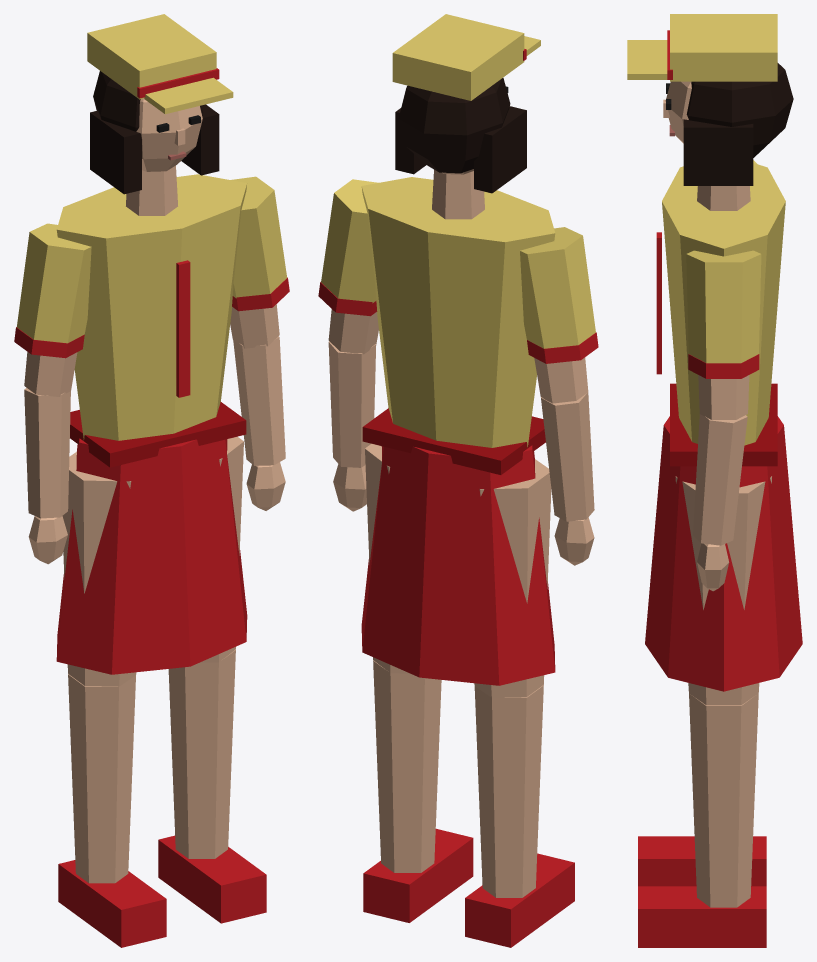
Rendered from 05-red-skirt-woman.glb.
The picture shows the model from 3 angles, left to right: view 1: azimuth 30°, elevation 25°; view 2: azimuth 150°, elevation 25°; view 3: azimuth 270°, elevation 25°; orthographic projection. The views are drawn at different scales.
Visible parts, largest first — view 1: 05-red-skirt-woman-torso, 05-red-skirt-woman-skirt, 05-red-skirt-woman-shin, 05-red-skirt-woman-shin.001, 05-red-skirt-woman-sleeve, 05-red-skirt-woman-cap, 05-red-skirt-woman-foot, 05-red-skirt-woman-foot.001, 05-red-skirt-woman-forearm, 05-red-skirt-woman-forearm.001, 05-red-skirt-woman-sleeve.001, 05-red-skirt-woman-thigh (+16 smaller); view 2: 05-red-skirt-woman-torso, 05-red-skirt-woman-skirt, 05-red-skirt-woman-shin, 05-red-skirt-woman-shin.001, 05-red-skirt-woman-cap, 05-red-skirt-woman-sleeve, 05-red-skirt-woman-hair, 05-red-skirt-woman-foot.001, 05-red-skirt-woman-foot, 05-red-skirt-woman-forearm, 05-red-skirt-woman-thigh, 05-red-skirt-woman-sleeve.001 (+12 smaller); view 3: 05-red-skirt-woman-skirt, 05-red-skirt-woman-torso, 05-red-skirt-woman-shin.001, 05-red-skirt-woman-sleeve.001, 05-red-skirt-woman-cap, 05-red-skirt-woman-foot.001, 05-red-skirt-woman-forearm.001, 05-red-skirt-woman-hair, 05-red-skirt-woman-hairside.001, 05-red-skirt-woman-thigh.001, 05-red-skirt-woman-foot, 05-red-skirt-woman-belt (+7 smaller).
Boxes of the visible parts, x1,y1,x2,y2 form: 05-red-skirt-woman-torso: (56, 174, 247, 440); 05-red-skirt-woman-skirt: (56, 438, 247, 674); 05-red-skirt-woman-shin: (68, 674, 135, 883); 05-red-skirt-woman-shin.001: (168, 650, 235, 858); 05-red-skirt-woman-sleeve: (17, 223, 91, 343); 05-red-skirt-woman-cap: (87, 14, 216, 99); 05-red-skirt-woman-foot: (58, 860, 166, 947); 05-red-skirt-woman-foot.001: (158, 835, 266, 923); 05-red-skirt-woman-forearm: (24, 388, 70, 518); 05-red-skirt-woman-forearm.001: (233, 336, 285, 465); 05-red-skirt-woman-sleeve.001: (231, 176, 287, 298); 05-red-skirt-woman-thigh: (62, 452, 136, 686); 05-red-skirt-woman-torso: (361, 177, 555, 447); 05-red-skirt-woman-skirt: (361, 445, 555, 685); 05-red-skirt-woman-shin: (474, 685, 543, 897); 05-red-skirt-woman-shin.001: (373, 660, 441, 872); 05-red-skirt-woman-cap: (392, 14, 524, 100); 05-red-skirt-woman-sleeve: (520, 227, 595, 348); 05-red-skirt-woman-hair: (398, 78, 510, 173); 05-red-skirt-woman-foot.001: (363, 828, 473, 922); 05-red-skirt-woman-foot: (465, 853, 574, 947); 05-red-skirt-woman-forearm: (541, 392, 594, 521); 05-red-skirt-woman-thigh: (474, 459, 551, 697); 05-red-skirt-woman-sleeve.001: (321, 179, 378, 303); 05-red-skirt-woman-skirt: (645, 416, 802, 691); 05-red-skirt-woman-torso: (662, 163, 785, 445); 05-red-skirt-woman-shin.001: (689, 693, 758, 907); 05-red-skirt-woman-sleeve.001: (686, 250, 761, 363); 05-red-skirt-woman-cap: (670, 14, 777, 81); 05-red-skirt-woman-foot.001: (638, 886, 766, 947); 05-red-skirt-woman-forearm.001: (693, 414, 747, 545); 05-red-skirt-woman-hair: (686, 63, 793, 157); 05-red-skirt-woman-hairside.001: (683, 119, 753, 185); 05-red-skirt-woman-thigh.001: (675, 476, 771, 705); 05-red-skirt-woman-foot: (638, 836, 766, 886); 05-red-skirt-woman-belt: (670, 383, 777, 466).
Size of the model in its own units: 0.5693 by 1.8 by 0.327.
